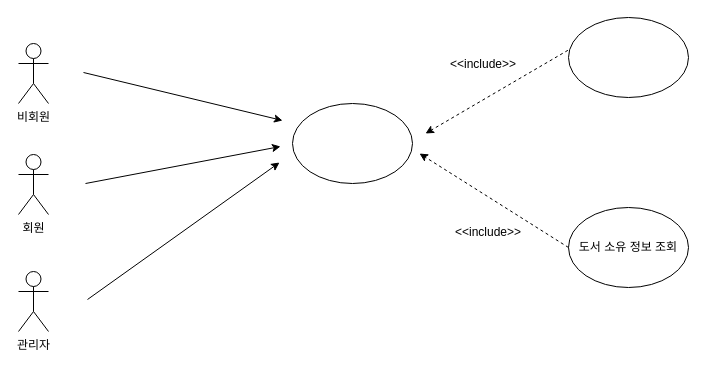
This 706x370 diagram has some shape labels left out. The shapes that lost their labels are listed below. From the top down, each one's box as (x1, y1, x2, y2) in pixels, then its label:
(568, 16, 688, 98): 도서 상세 정보 조회
(292, 102, 412, 184): 도서 조회
